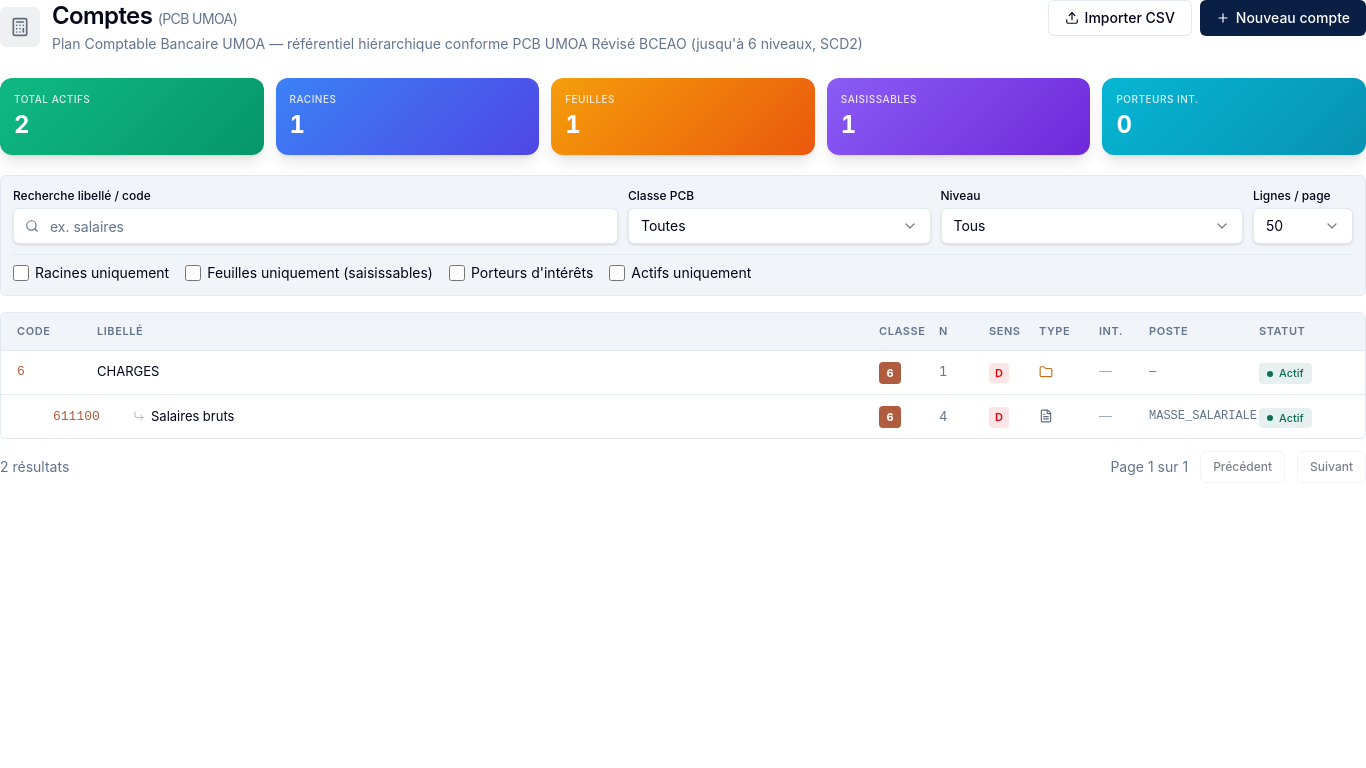
Scenario: ComptesPage › drawer admin : Modifier + Désactiver visibles sur compte actif
This screenshot has width=1366, height=768.
Click the text "CHARGES". click: [128, 372]
box: x1=97 y1=362 x2=159 y2=382
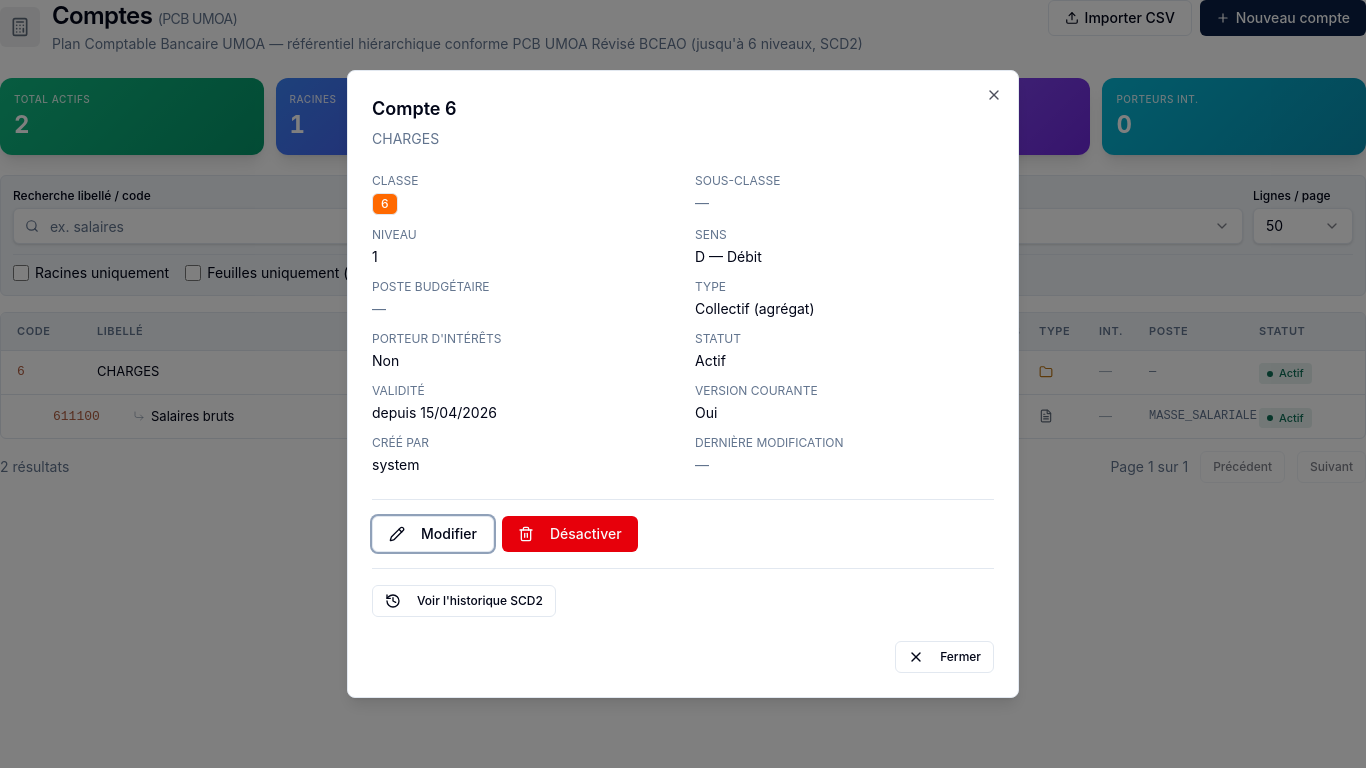
Expected: the button "Modifier" is shown, x1=372 y1=516 x2=494 y2=552
Expected: the button "Désactiver" is shown, x1=502 y1=516 x2=638 y2=552
